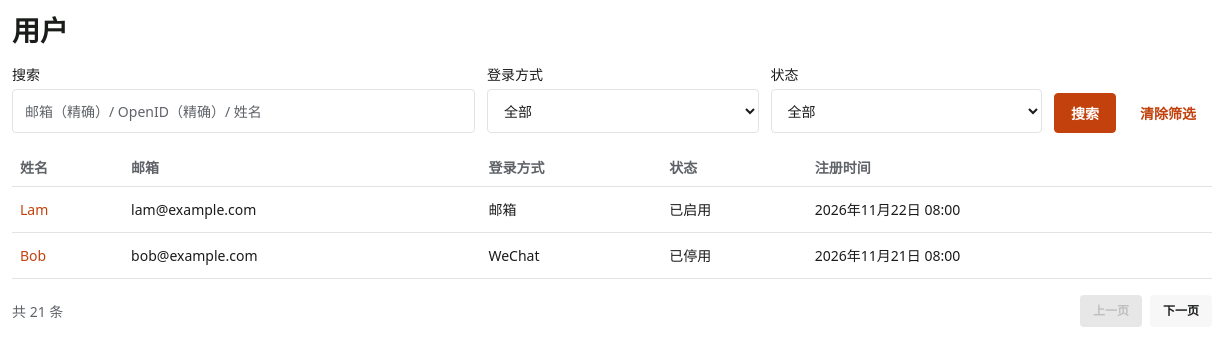
Scenario: AdminUsersPage › next page requests offset=20 and shows page 2
The width and height of the screenshot is (1229, 344).
Expected: the text "lam@example.com" is shown, [123,186,480,232]
Click the button "下一页" at (1181, 311), box [1150,295,1212,327]
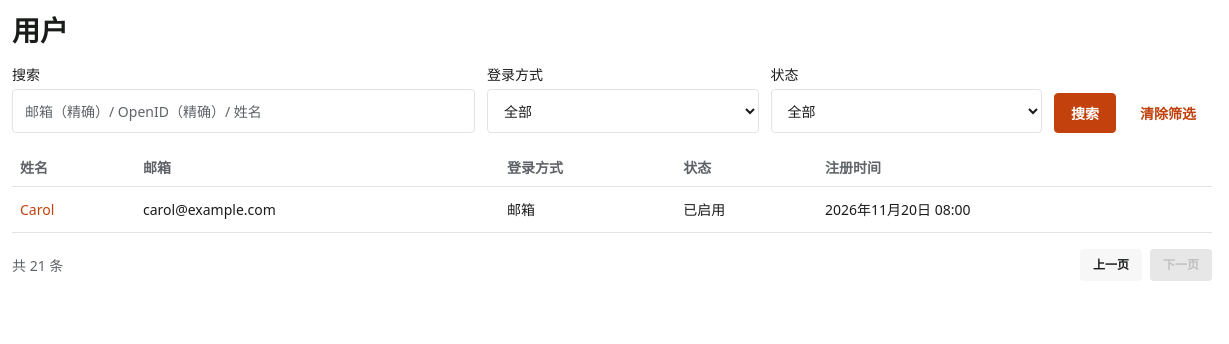
Expected: the text "共 21 条" is shown, [12,254,63,276]
Expected: the text "carol@example.com" is shown, [135,186,499,232]
Expected: the text "lam@example.com" is gone
